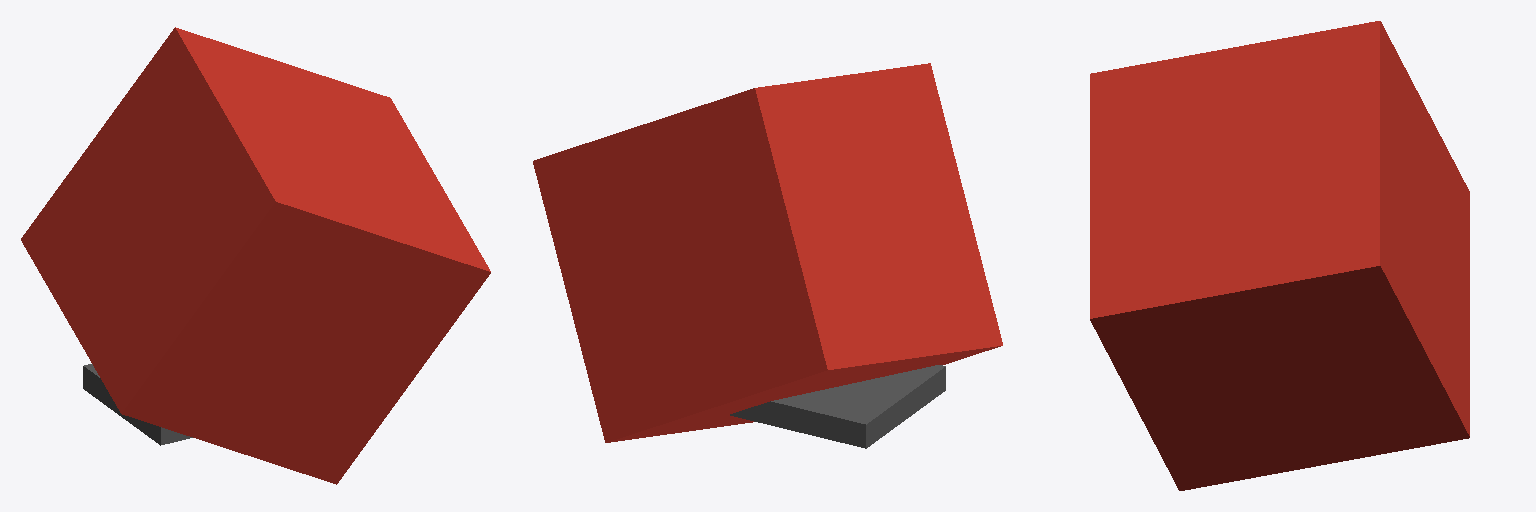
robot.urdf — robomesh_mesh_sample:
<?xml version="1.0"?>
<robot name="robomesh_mesh_sample">
  <link name="base_link">
    <visual>
      <origin xyz="0 0 0" rpy="0 0 0"/>
      <geometry>
        <box size="0.12 0.12 0.02"/>
      </geometry>
      <material name="base_gray">
        <color rgba="0.4 0.4 0.4 1"/>
      </material>
    </visual>
  </link>

  <link name="mesh_link">
    <visual>
      <origin xyz="0 0 0.08" rpy="0.3 0.5 0"/>
      <geometry>
        <mesh filename="mesh_link.obj" scale="0.22 0.22 0.22"/>
      </geometry>
      <material name="mesh_red">
        <color rgba="0.8 0.25 0.2 1"/>
      </material>
    </visual>
  </link>

  <joint name="base_fixed" type="fixed">
    <origin xyz="0.06 0 0.02" rpy="0 0 0"/>
    <parent link="base_link"/>
    <child link="mesh_link"/>
  </joint>
</robot>

--- What the picture shows (computed from the rendered views, not written in the file) ---
The picture shows the robot from 3 angles, left to right: view 1: azimuth 30°, elevation 25°; view 2: azimuth 150°, elevation 25°; view 3: azimuth 270°, elevation 25°; orthographic projection.
Robot: robomesh_mesh_sample — 2 links, 1 joints (1 fixed); root link base_link; default pose: every joint at zero.
Visible links, largest first — view 1: mesh_link, base_link; view 2: mesh_link, base_link; view 3: mesh_link.
Boxes of the visible links, x1,y1,x2,y2 form: mesh_link: (21, 27, 490, 484); base_link: (83, 364, 192, 445); mesh_link: (533, 63, 1002, 442); base_link: (730, 365, 945, 448); mesh_link: (1090, 21, 1469, 490).
Size in the robot's own frame: 0.325 by 0.2752 by 0.347 metres.
1 mesh visuals loaded from 1 distinct referenced files (1 OBJ).